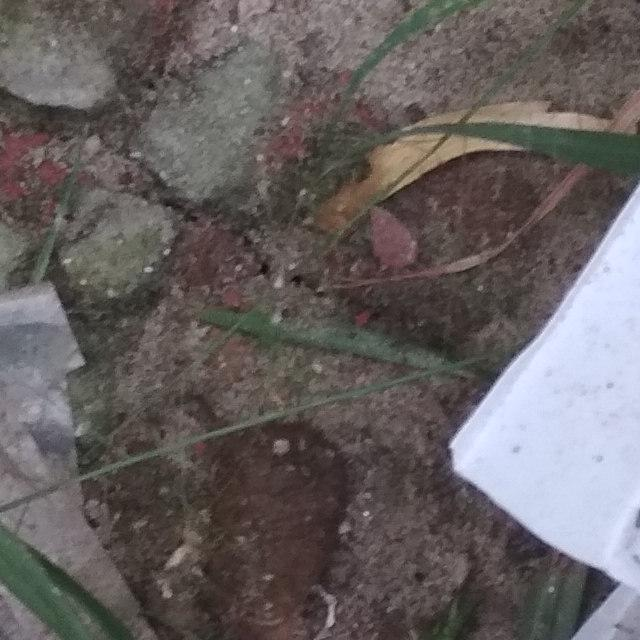plastic: (294, 0, 640, 640)
